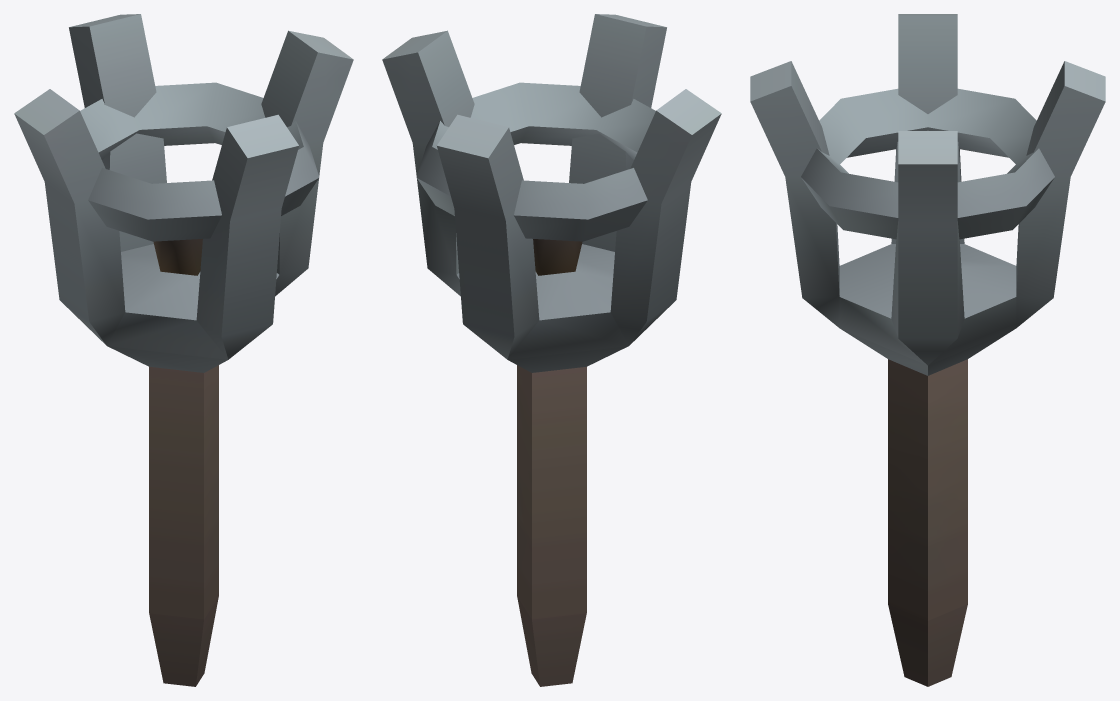
Rendered from kay-tocha-apagada.gltf.
3 views of the same model, side by side, from view 1: azimuth 30°, elevation 25°; view 2: azimuth 150°, elevation 25°; view 3: azimuth 270°, elevation 25° (orthographic).
Visible parts, largest first — view 1: torch; view 2: torch; view 3: torch.
Boxes of the visible parts, x1=… form: torch: x1=14, y1=14, x2=353, y2=686; torch: x1=382, y1=14, x2=721, y2=686; torch: x1=750, y1=14, x2=1105, y2=686.
Bounding box in the file's own units: 0.3577 × 0.677 × 0.3577.
Materials: 1 (1 with a texture image).
